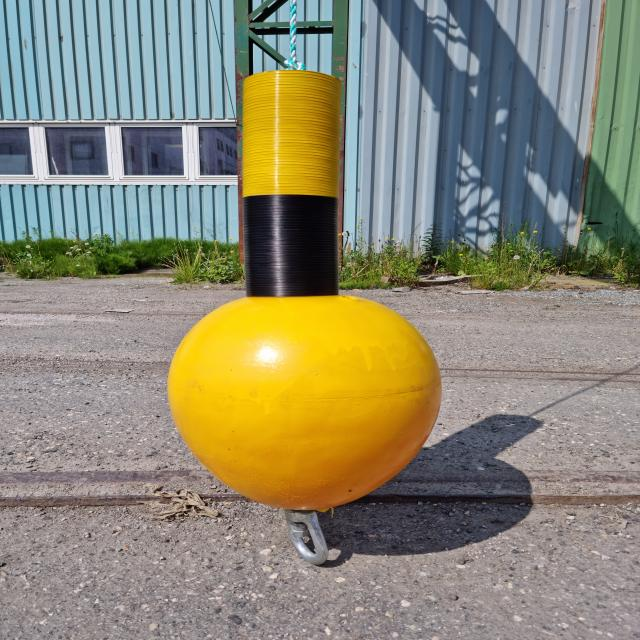west: (167, 70, 443, 510)
